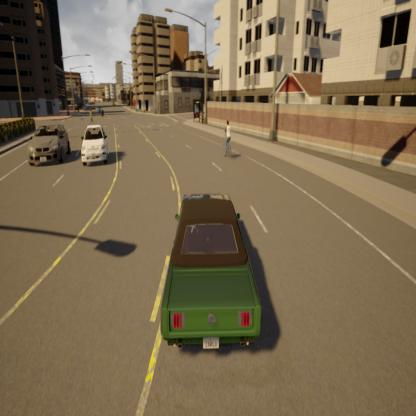Cars: (157, 179, 269, 358), (28, 123, 75, 167), (80, 121, 110, 168)
Pedestrian: (85, 106, 96, 128)
